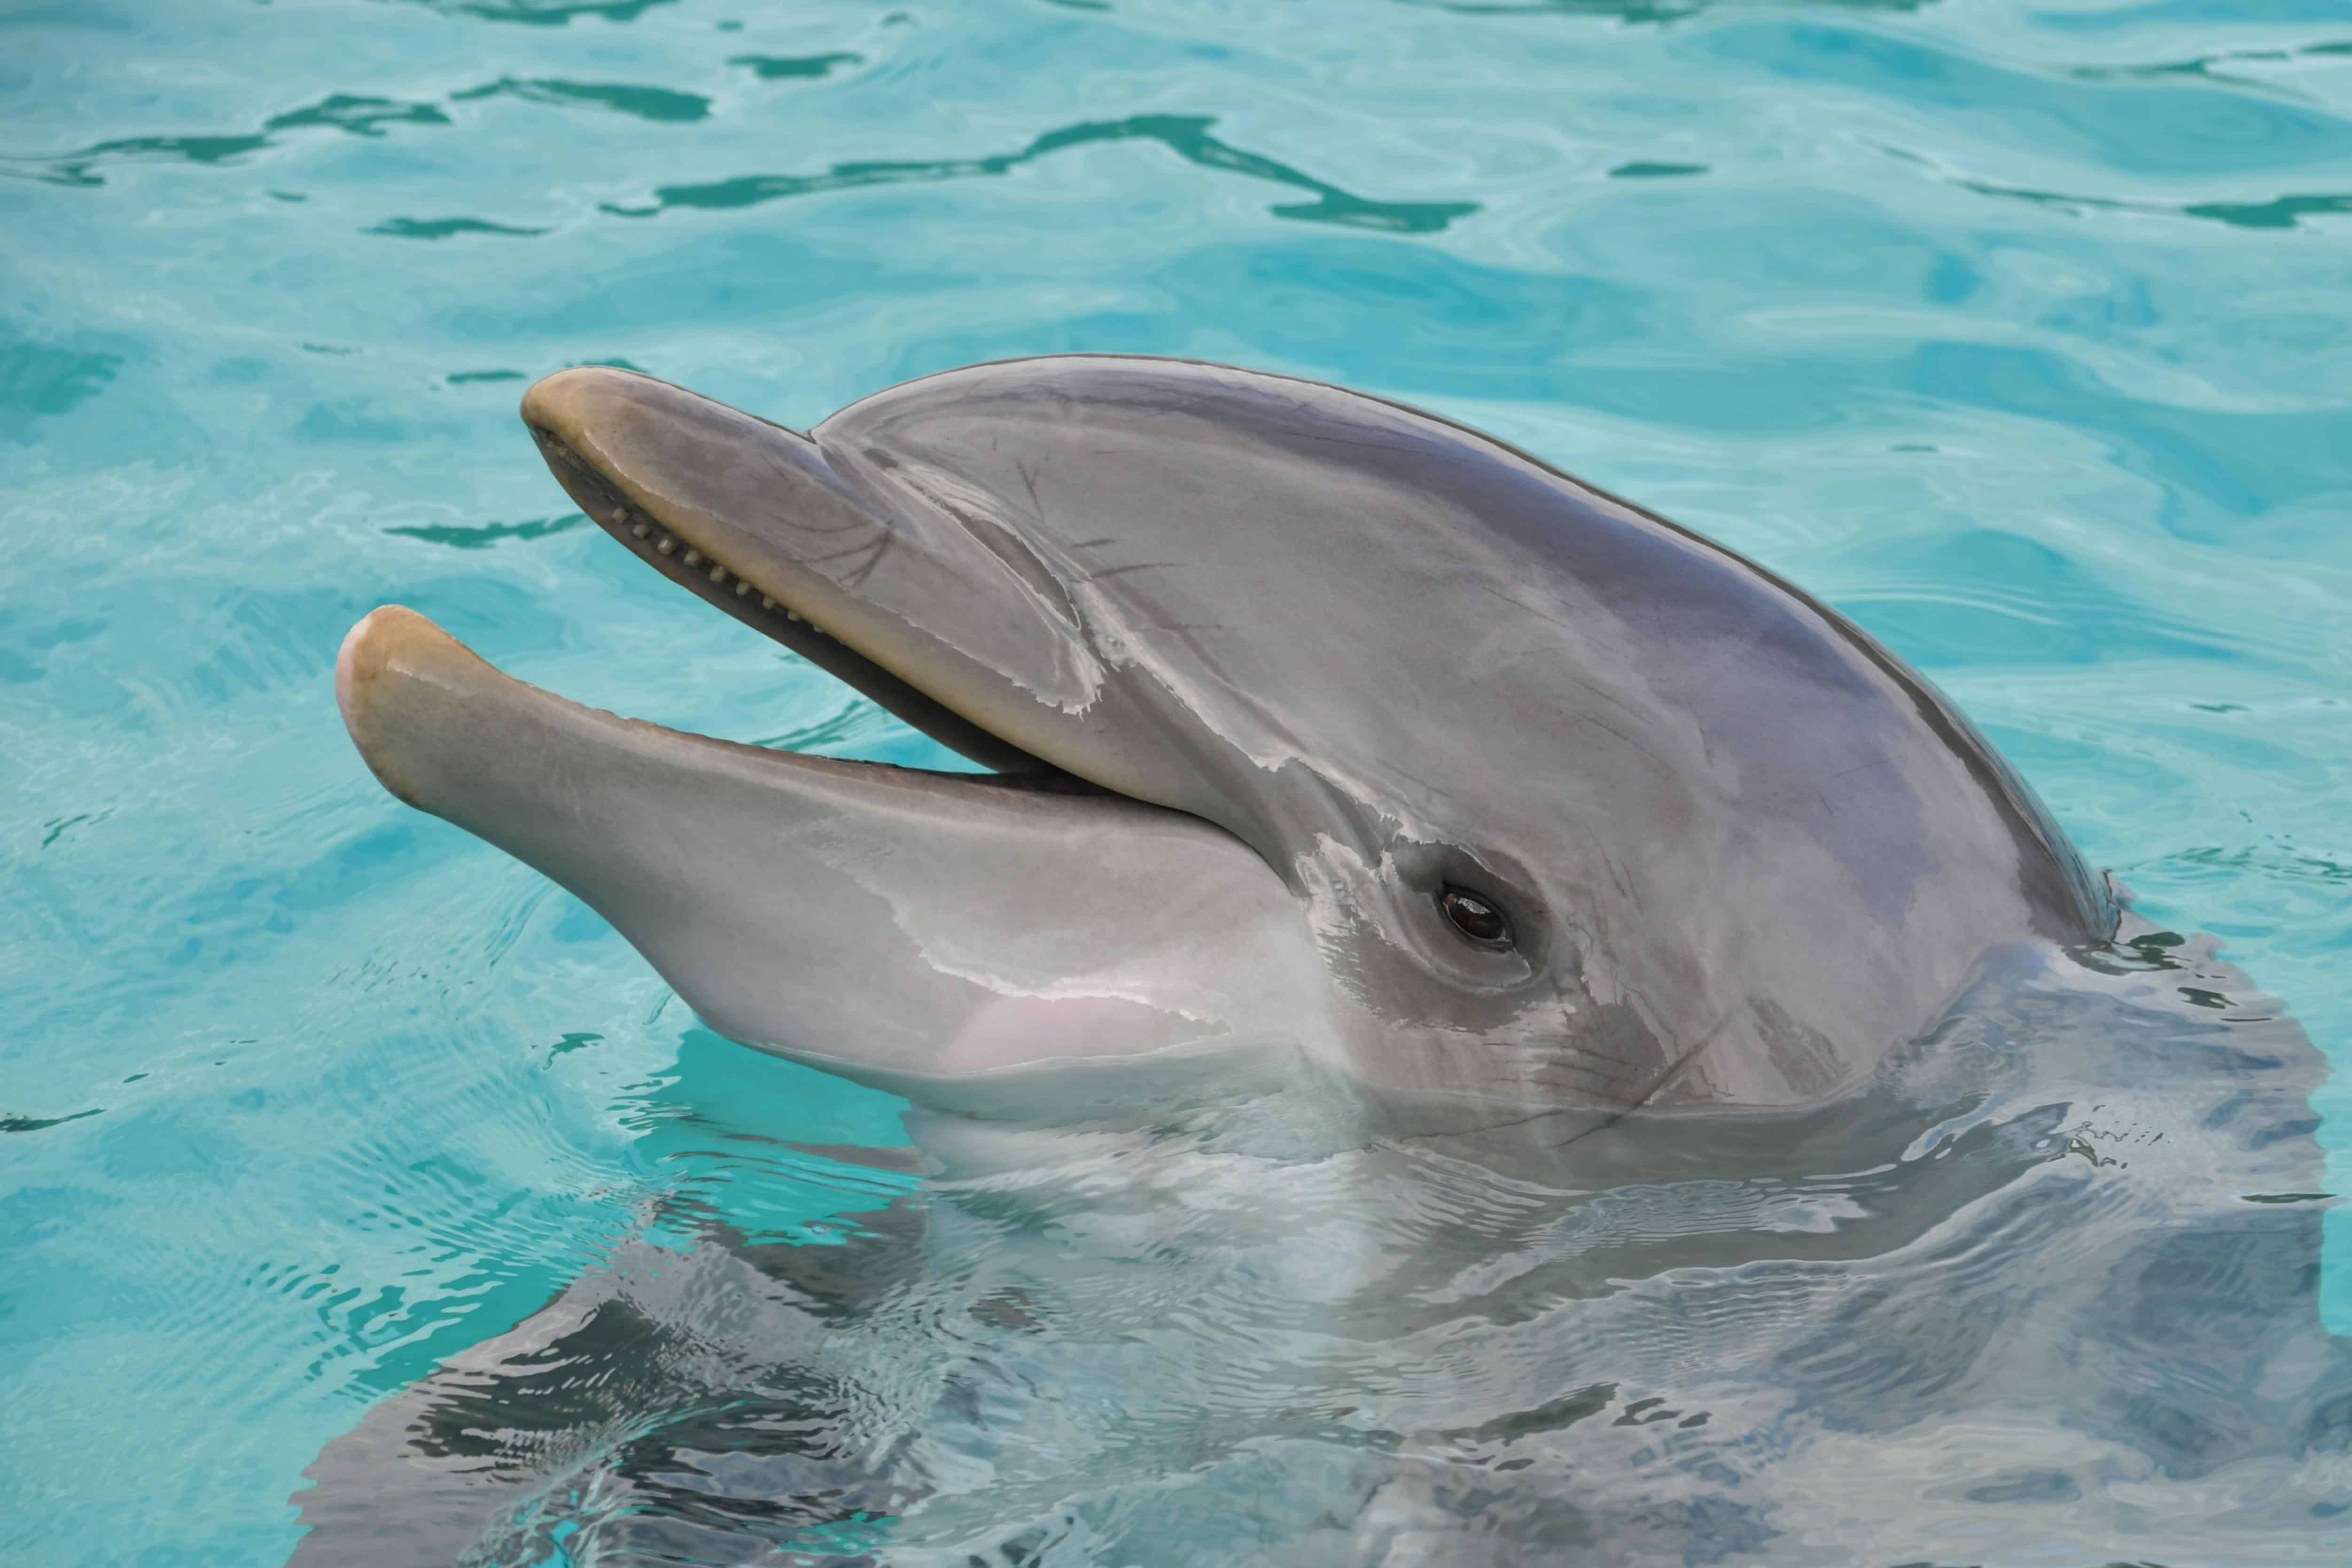dolphin: (297, 285, 2189, 1272)
